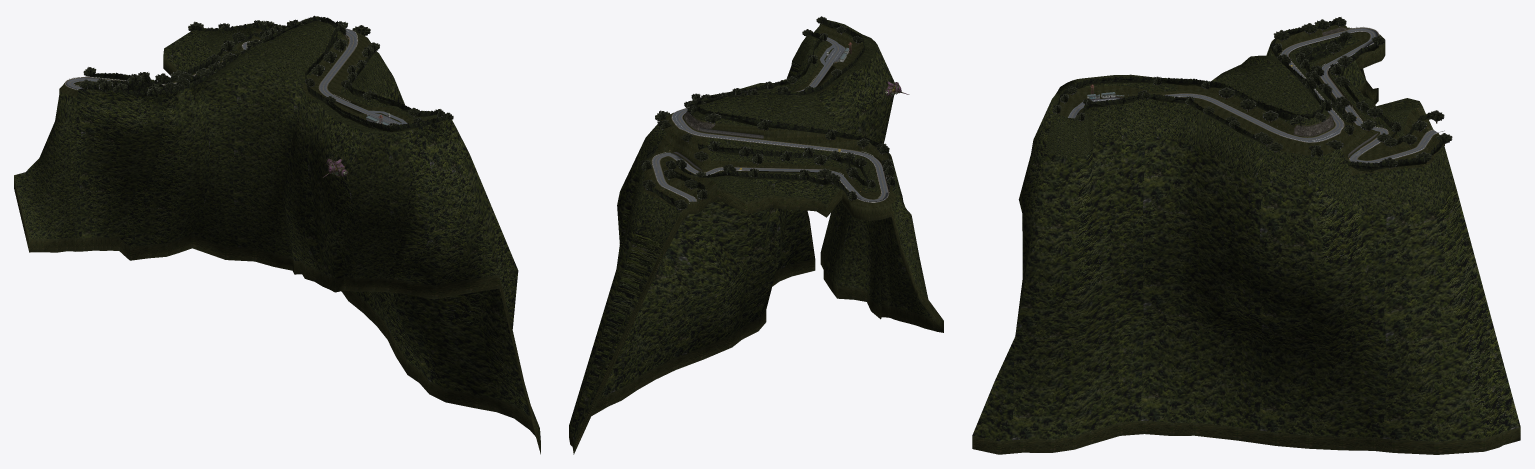
File: akina5.glb
The picture shows the model from 3 angles, left to right: view 1: azimuth 30°, elevation 25°; view 2: azimuth 150°, elevation 25°; view 3: azimuth 270°, elevation 25°; orthographic projection. The views are drawn at different scales.
Parts seen in each view (by area): view 1: akina5; view 2: akina5; view 3: akina5.
Part boxes in pixels (bbox=[...]): akina5: bbox=[14, 15, 540, 454]; akina5: bbox=[569, 16, 943, 454]; akina5: bbox=[972, 17, 1520, 454].
Bounding box in the file's own units: 425 × 362 × 560.
Materials: 27 (27 with a texture image).
